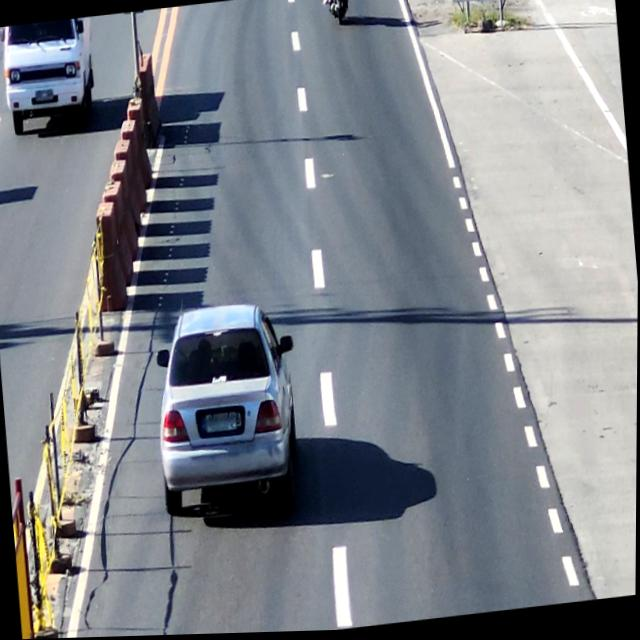Car: (152, 301, 300, 510)
License-Plate: (201, 410, 244, 438), (34, 86, 55, 103)
